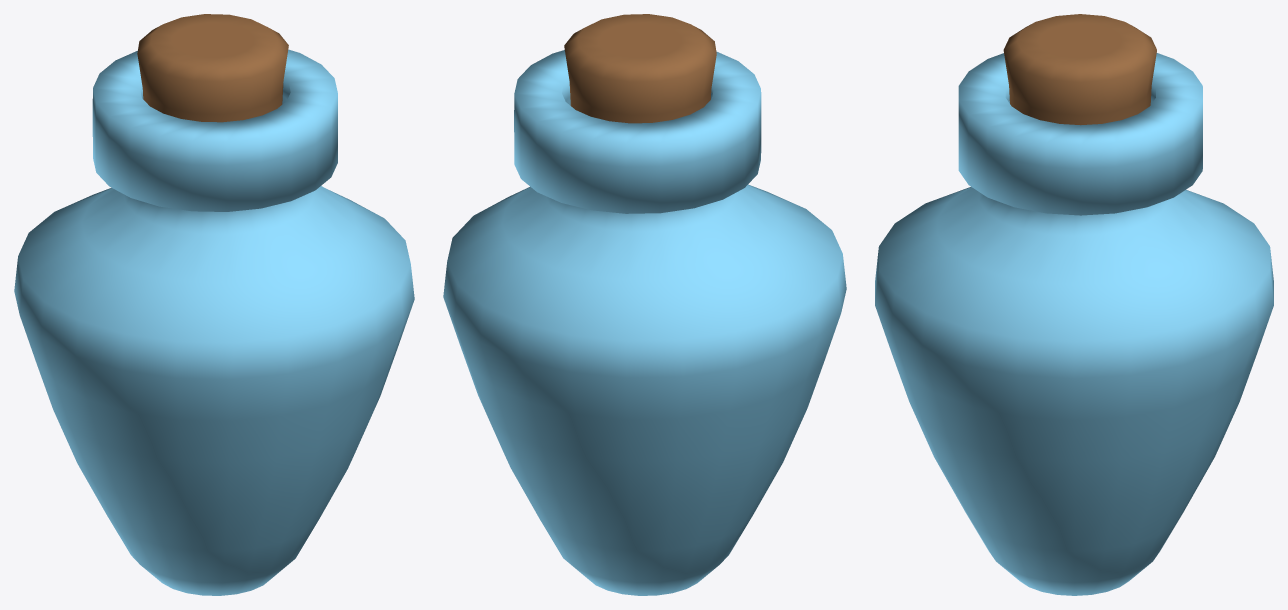
Rendered from FlaskPot.fbx.
3 views of the same model, side by side, from view 1: azimuth 30°, elevation 25°; view 2: azimuth 150°, elevation 25°; view 3: azimuth 270°, elevation 25° (orthographic).
Visible parts, largest first — view 1: FlaskPot; view 2: FlaskPot; view 3: FlaskPot.
Part boxes in pixels (x1,y1,x2,y2): FlaskPot: (14, 14, 414, 595); FlaskPot: (443, 14, 846, 595); FlaskPot: (875, 14, 1273, 595).
Size of the model in its own units: 30.49 by 44.29 by 30.18.
